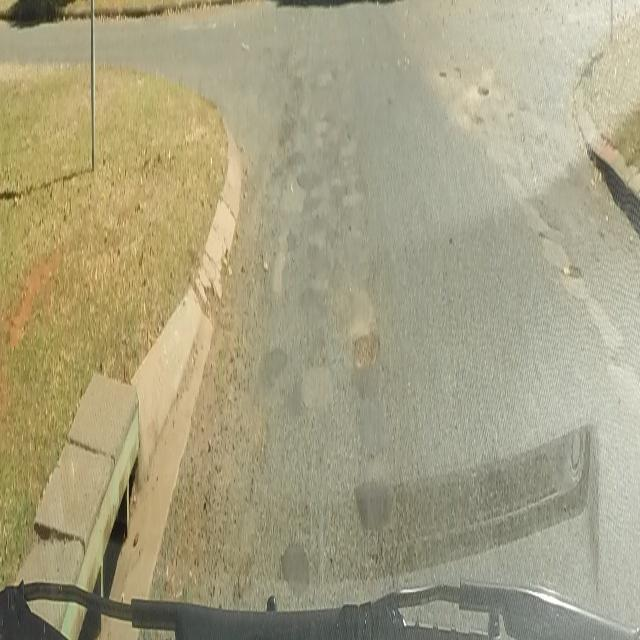pothole: (346, 326, 390, 371)
